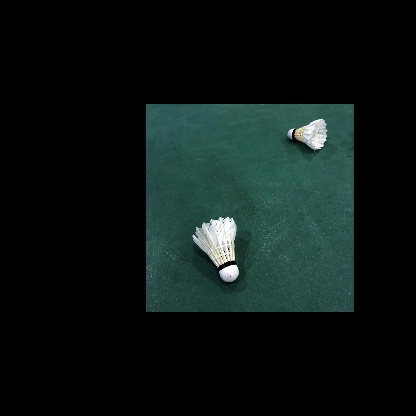ball_single: (192, 216, 239, 282), (287, 119, 328, 150)
